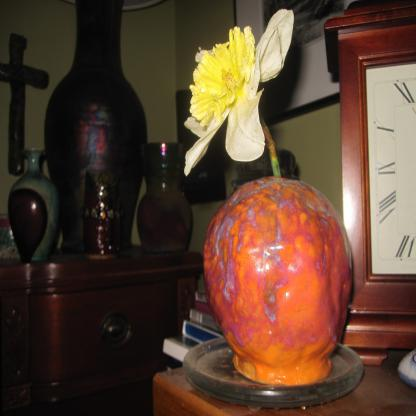vase: (202, 175, 353, 388), (5, 146, 60, 262)
